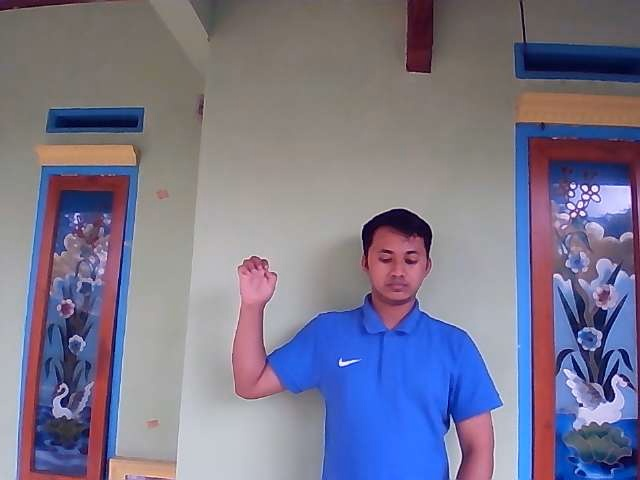E: (236, 255, 278, 310)
